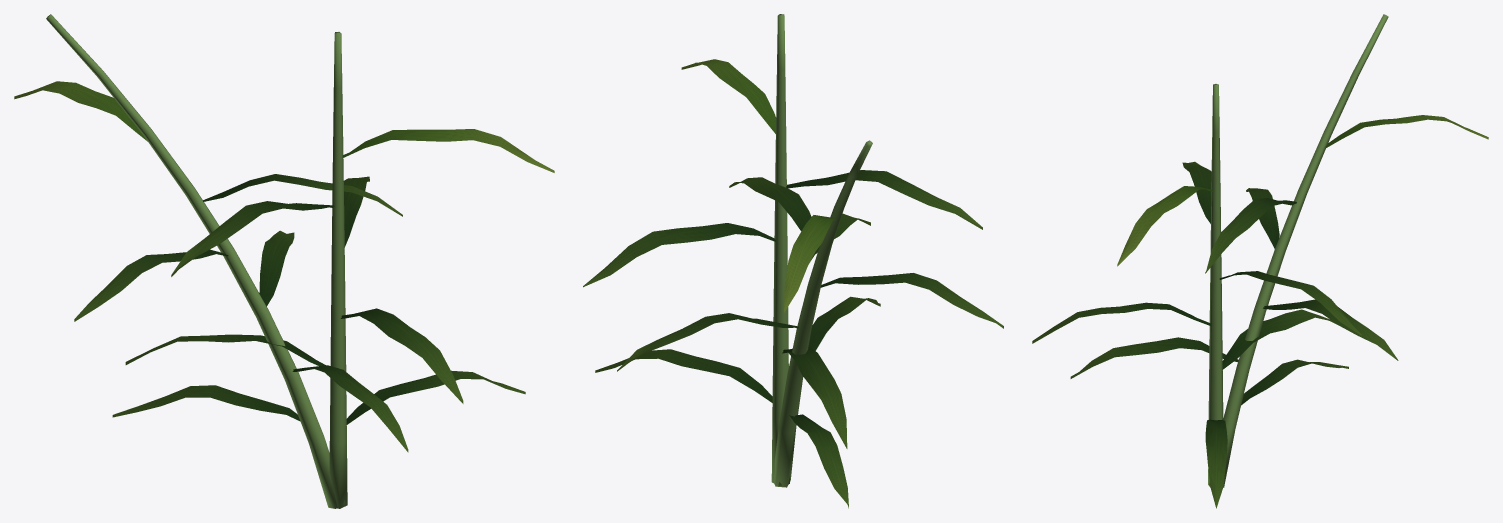
The model's file is lavender-05-lod.glb.
3 renders of one model, left to right at view 1: azimuth 30°, elevation 25°; view 2: azimuth 150°, elevation 25°; view 3: azimuth 270°, elevation 25°, orthographic. The views are drawn at different scales.
Parts seen in each view (by area): view 1: lavender_stage_05_leaf_veins.009, lavender_stage_05_stem_fibres.009, lavender_stage_05_young_leaf.009; view 2: lavender_stage_05_leaf_veins.009, lavender_stage_05_stem_fibres.009, lavender_stage_05_young_leaf.009; view 3: lavender_stage_05_leaf_veins.009, lavender_stage_05_stem_fibres.009, lavender_stage_05_young_leaf.009.
Boxes of the visible parts, x1,y1,x2,y2 form: lavender_stage_05_leaf_veins.009: (74,174,525,452); lavender_stage_05_stem_fibres.009: (46,14,347,508); lavender_stage_05_young_leaf.009: (14,81,554,172); lavender_stage_05_leaf_veins.009: (583,170,1003,508); lavender_stage_05_stem_fibres.009: (771,14,872,487); lavender_stage_05_young_leaf.009: (681,59,836,312); lavender_stage_05_leaf_veins.009: (1032,161,1398,508); lavender_stage_05_stem_fibres.009: (1208,14,1388,487); lavender_stage_05_young_leaf.009: (1117,115,1488,266).
Size of the model in its own units: 0.2023 by 0.212 by 0.2177.
Materials: 3 (2 with a texture image).
